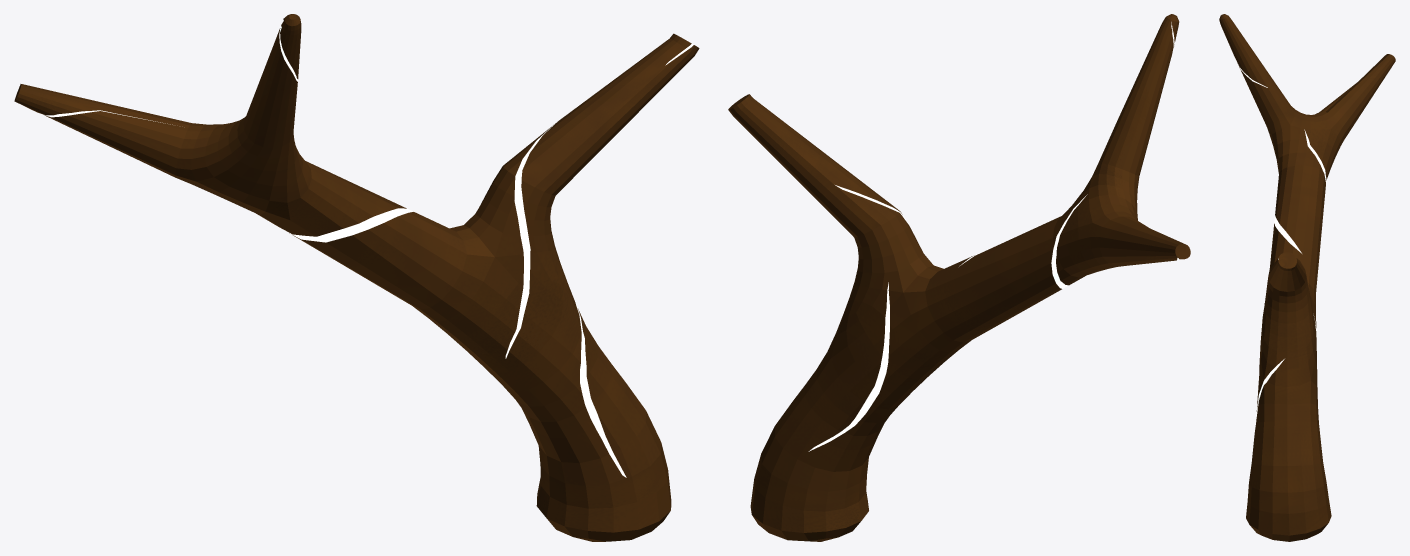
File: SapplingWeepingWillow.fbx
3 renders of one model, left to right at view 1: azimuth 30°, elevation 25°; view 2: azimuth 150°, elevation 25°; view 3: azimuth 270°, elevation 25°, orthographic. The views are drawn at different scales.
Parts seen in each view (by area): view 1: Tree; view 2: Tree; view 3: Tree.
Boxes of the visible parts, box(x1,y1,x2,y2) form: Tree: box(14, 14, 699, 541); Tree: box(728, 14, 1190, 541); Tree: box(1219, 14, 1395, 541).
Size of the model in its own units: 5.49 by 5.59 by 2.19.
